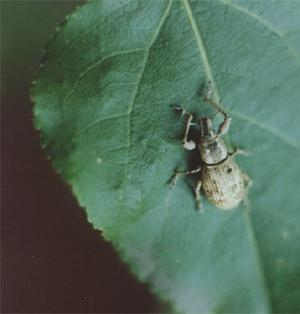Curculionidae: (164, 80, 254, 215)
